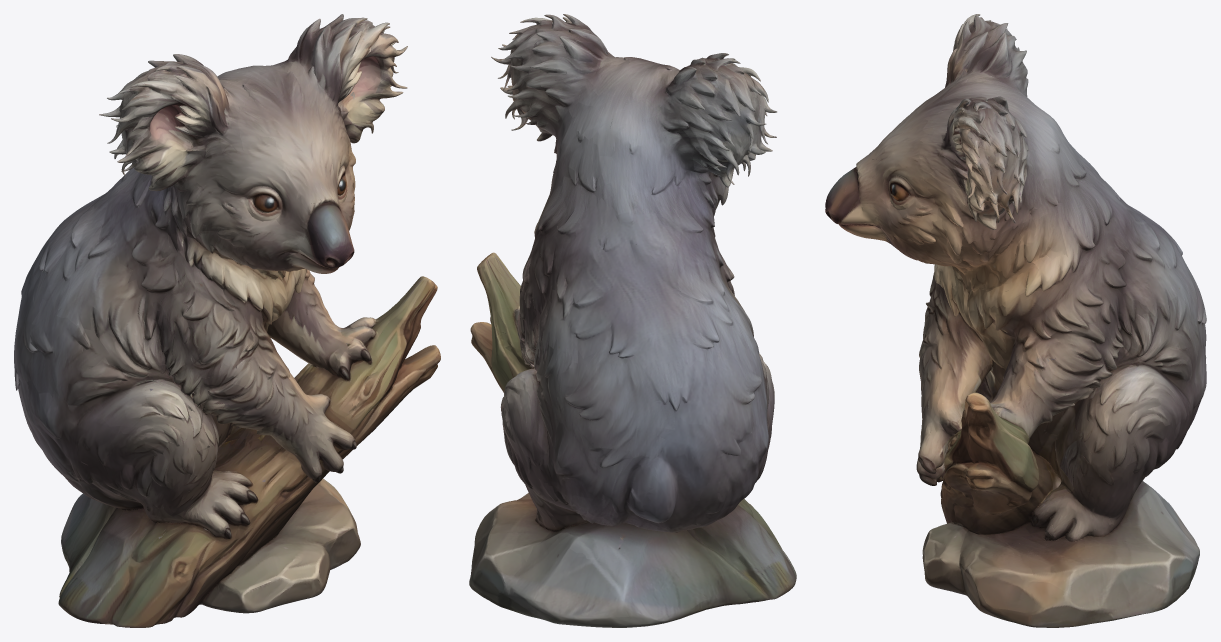
File: Koala.glb
The picture shows the model from 3 angles, left to right: view 1: azimuth 30°, elevation 25°; view 2: azimuth 150°, elevation 25°; view 3: azimuth 270°, elevation 25°; orthographic projection. The views are drawn at different scales.
Parts seen in each view (by area): view 1: output_unwrapped; view 2: output_unwrapped; view 3: output_unwrapped.
Part boxes in pixels (x1,y1,x2,y2): output_unwrapped: (14,14,440,627); output_unwrapped: (469,14,796,627); output_unwrapped: (825,14,1206,627).
Bounding box in the file's own units: 1.31 × 1.9 × 1.29.
Materials: 1 (1 with a texture image).
